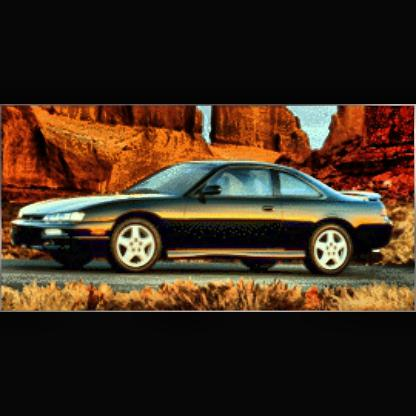Nissan 240SX Coupe 1998: (10, 162, 398, 279)
